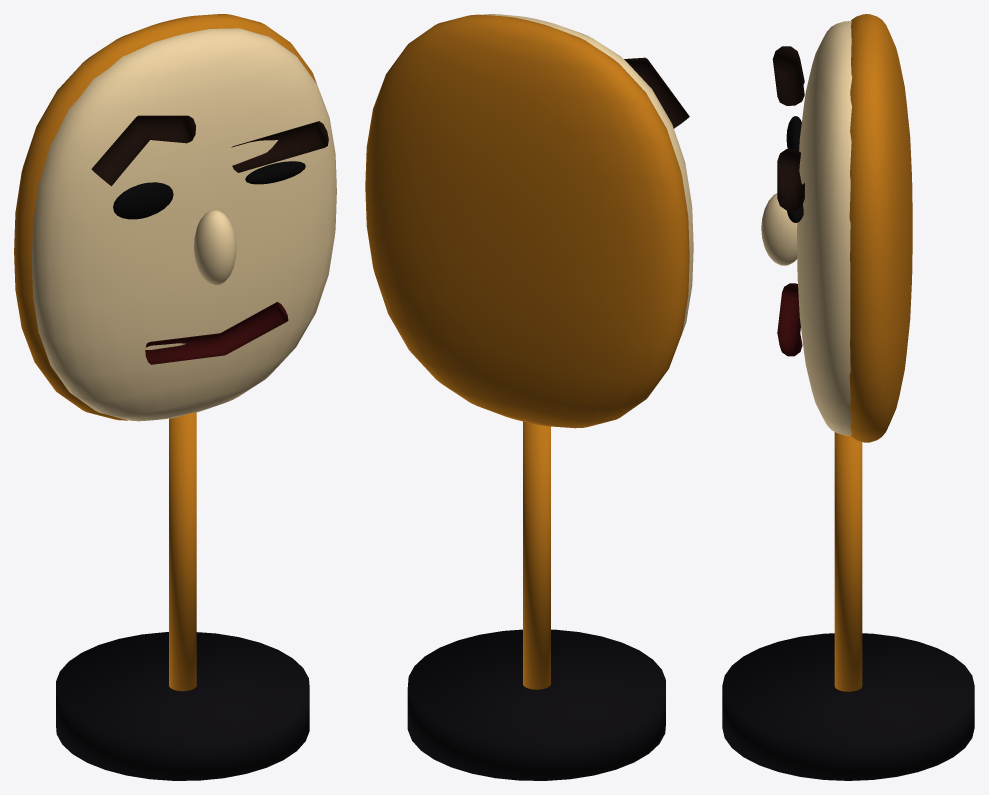
File: RizzFaceMask.fbx
3 renders of one model, left to right at view 1: azimuth 30°, elevation 25°; view 2: azimuth 150°, elevation 25°; view 3: azimuth 270°, elevation 25°, orthographic. The views are drawn at different scales.
Parts seen in each view (by area): view 1: RizzFaceMask; view 2: RizzFaceMask; view 3: RizzFaceMask.
Boxes of the visible parts, x1=… form: RizzFaceMask: x1=14, y1=14, x2=336, y2=780; RizzFaceMask: x1=365, y1=14, x2=693, y2=780; RizzFaceMask: x1=722, y1=14, x2=974, y2=780.
Size of the model in its own units: 1.56 by 3.33 by 1.1.
1 material, 1 textured.
